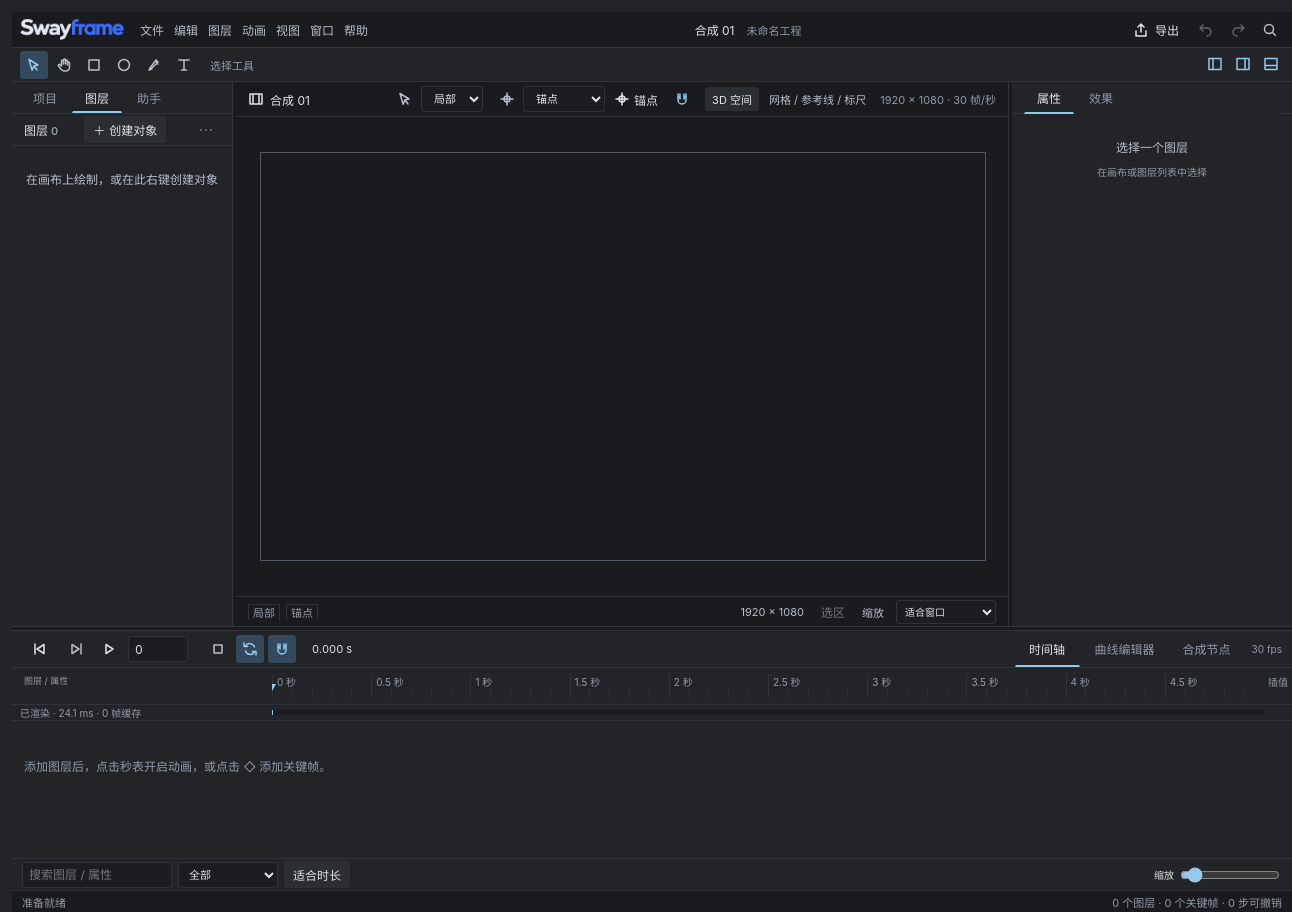
Test case: 七类应用菜单覆盖真实操作，图层类型可见创建且File没有对象类型
What coordinates should you click on to do the following:
click the heading "文件"
I would click on:
 (152, 30)
Its box is [140,23,164,38].
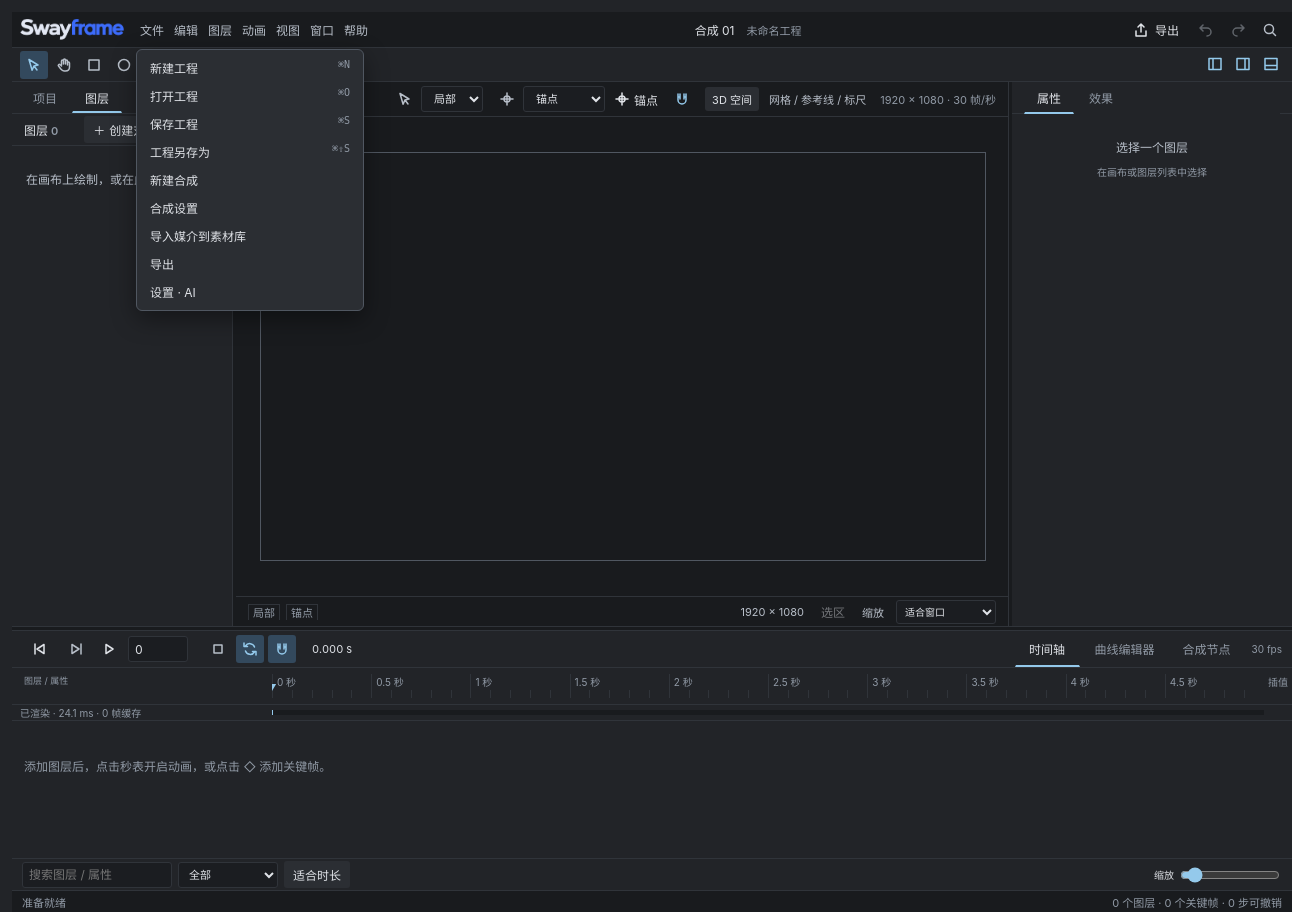
Expected: the menu item "创建 矩形" is not shown
What coordinates should you click on to do the following:
click the heading "图层"
I would click on:
 (220, 30)
Its box is [208,23,232,38].
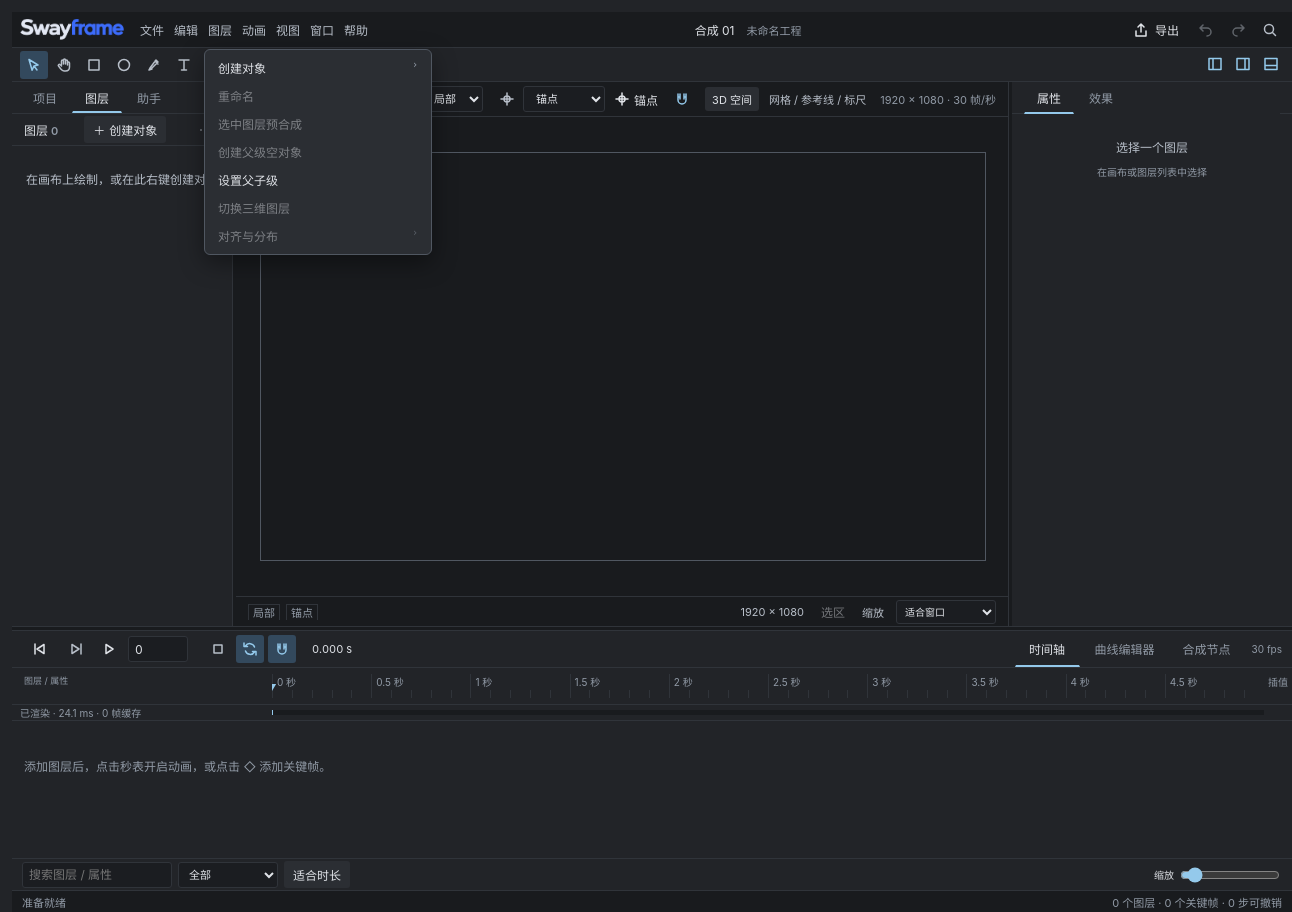
What coordinates should you click on to do the following:
click the menu item "创建对象 ›"
I would click on:
 (318, 68)
Its box is [209,54,427,82].
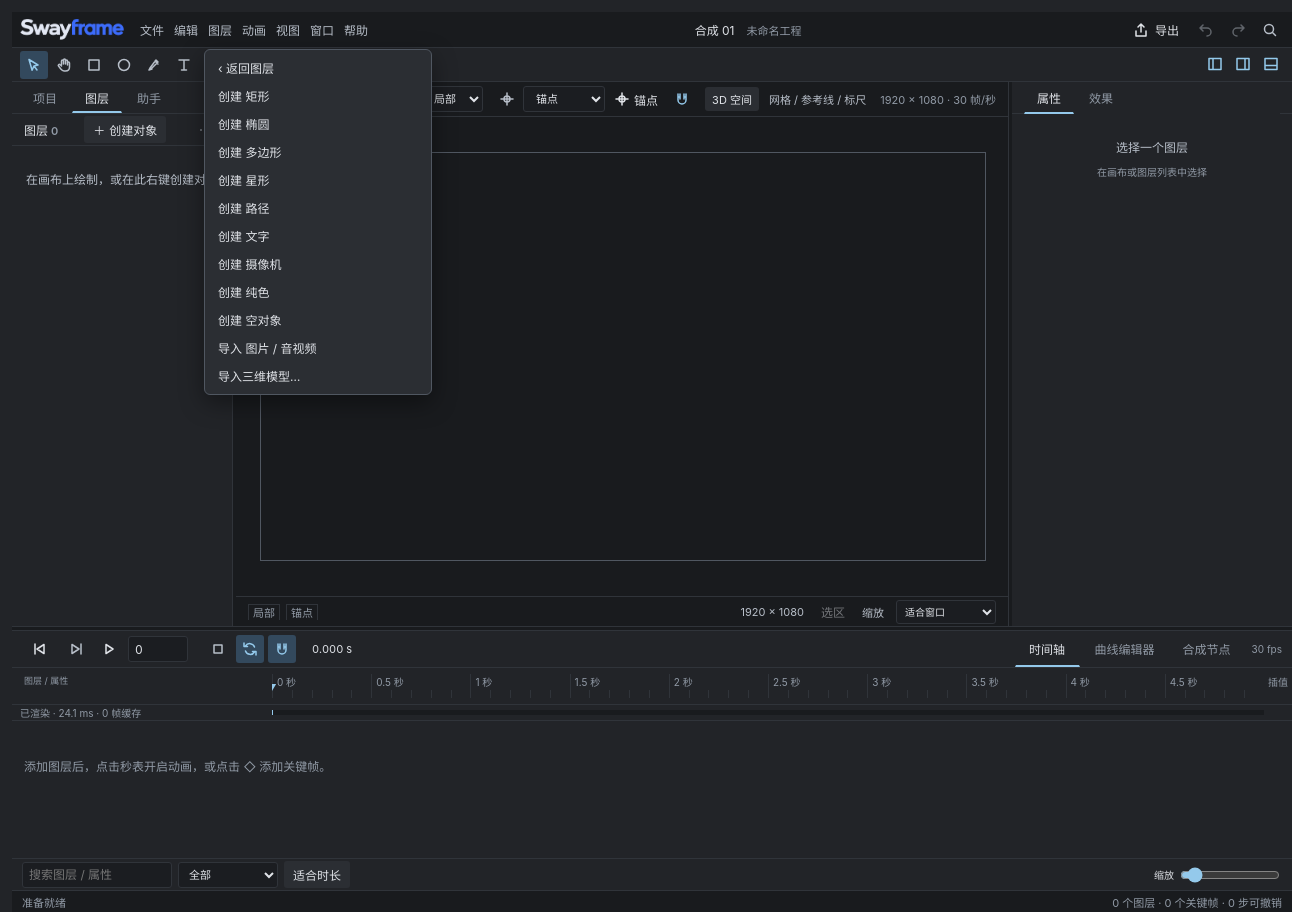
What coordinates should you click on to do the following:
click the menu item "创建 矩形"
I would click on:
 (318, 96)
Its box is [209,82,427,110].
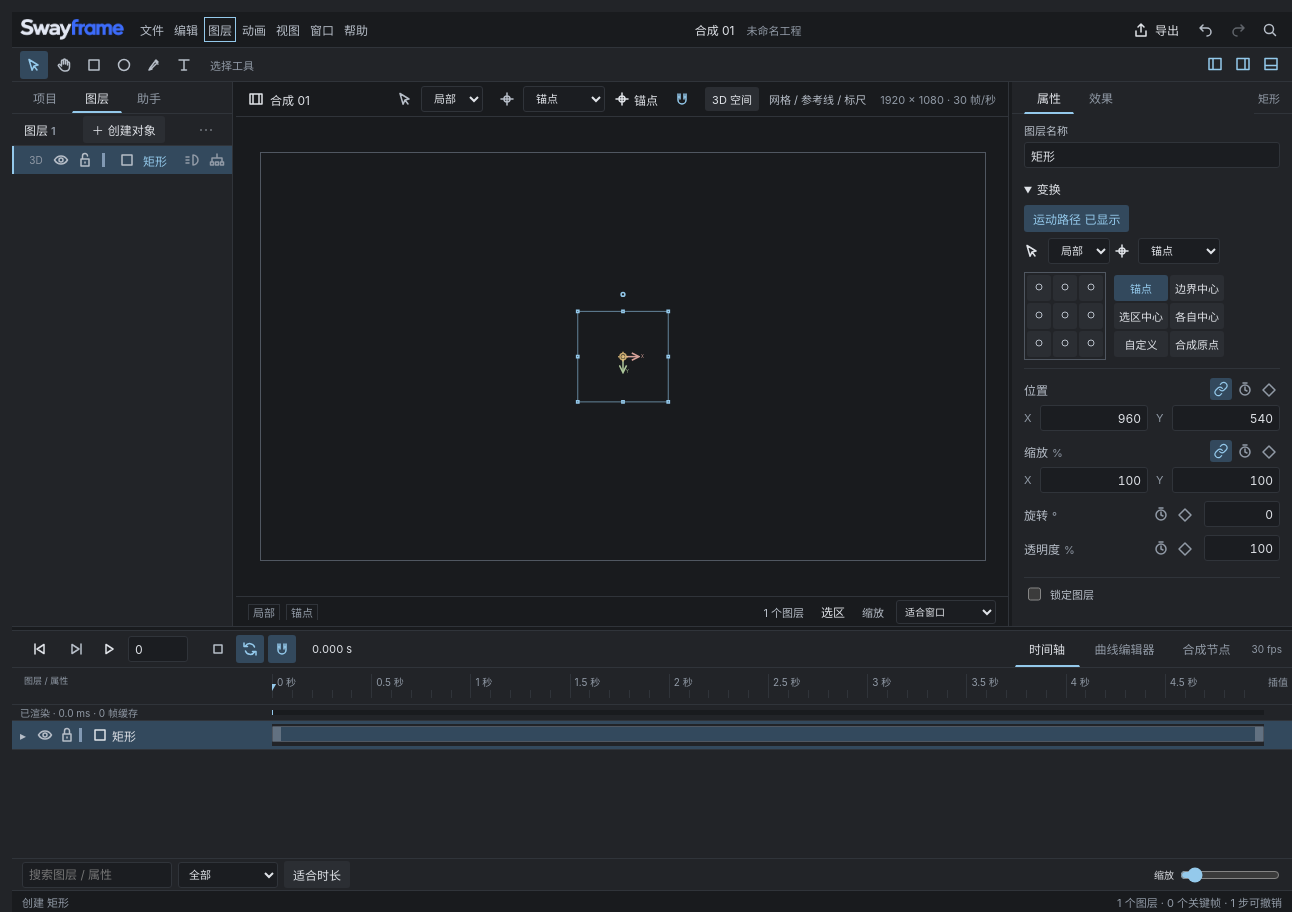
Expected: the number field labelled "位置 X" is shown, [1040,405,1148,431]
